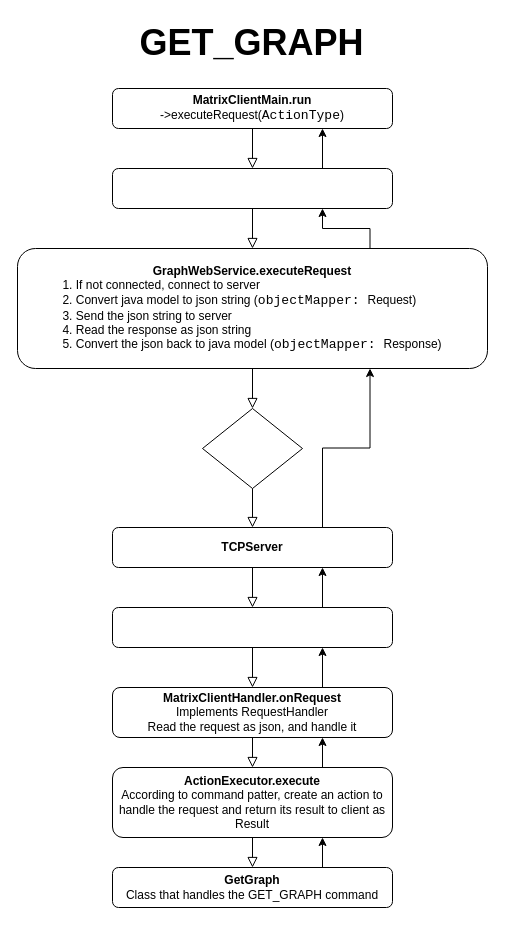
Some shapes in this 505 by 925 pixel diagram are drawn without their labels. Here are the shapes that lost their labels. From the top down, the centre of each, then its label:
the point at 252,188: GraphWebService.executeRequest
the point at 252,448: Server
the point at 252,627: ClientHandler.handle Handles the request from server
